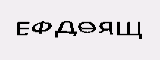Д: (54, 20, 79, 39)
Е: (14, 21, 30, 37)
Ф: (30, 18, 51, 35)
Щ: (115, 21, 143, 40)
Я: (97, 21, 114, 36)
Ө: (77, 20, 95, 35)
